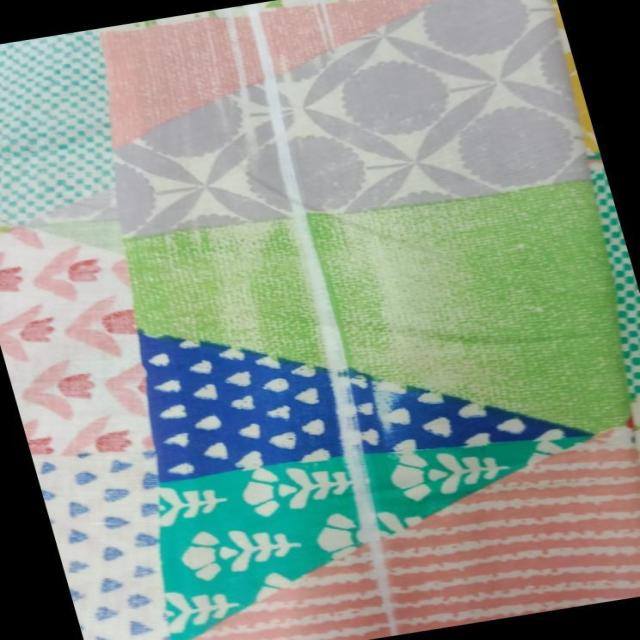selvet: (246, 158, 444, 638), (202, 2, 308, 164)
